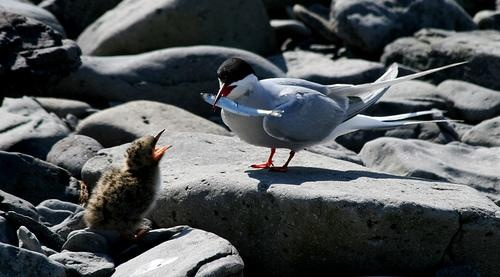bird: (214, 55, 450, 160)
